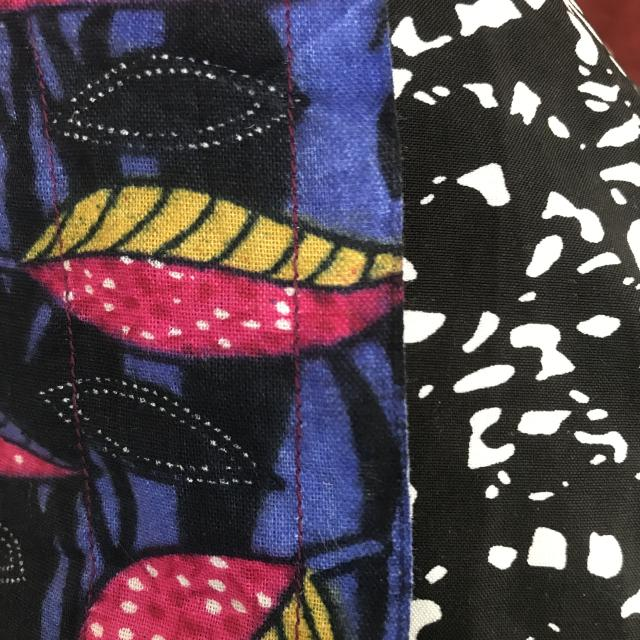good: (41, 306, 98, 458), (272, 112, 316, 230), (280, 424, 326, 530)
